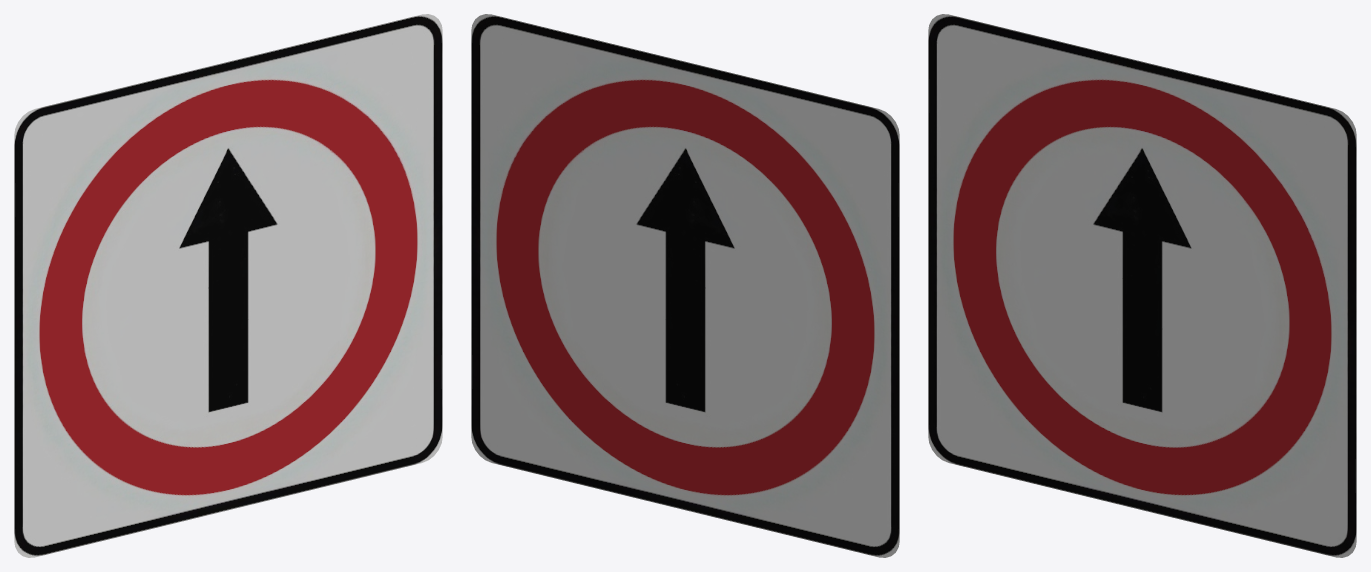
The model's file is vermelho_up.gltf.
3 views of the same model, side by side, from view 1: azimuth 30°, elevation 25°; view 2: azimuth 150°, elevation 25°; view 3: azimuth 330°, elevation 25° (orthographic).
Visible parts, largest first — view 1: vermelho_up; view 2: vermelho_up; view 3: vermelho_up.
Part boxes in pixels (box(x1,y1,x2,y2)): vermelho_up: box(14, 14, 442, 557); vermelho_up: box(471, 14, 899, 557); vermelho_up: box(928, 14, 1356, 557).
Bounding box in the file's own units: 1.51 × 1.51 × 3.36e-16.
Materials: 1 (1 with a texture image).
